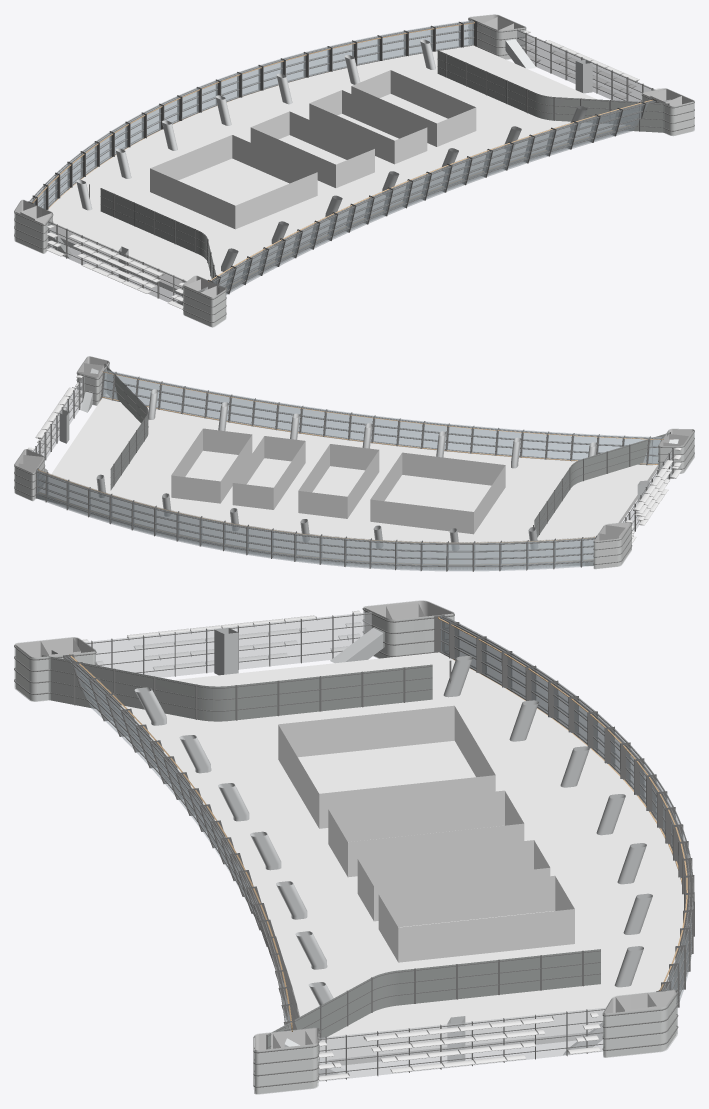
The picture shows the model from 3 angles, top to bottom: view 1: azimuth 30°, elevation 25°; view 2: azimuth 150°, elevation 25°; view 3: azimuth 270°, elevation 25°; orthographic projection. The views are drawn at different scales.
Parts seen in each view (by area): view 1: floor.051; view 2: floor.051; view 3: floor.051.
Part boxes in pixels (x1,y1,x2,y2): floor.051: [14, 14, 694, 327]; floor.051: [14, 356, 694, 571]; floor.051: [14, 600, 694, 1094].
Bounding box in the file's own units: 82.03 × 3.71 × 52.33.
Materials: 14 (1 with a texture image).
